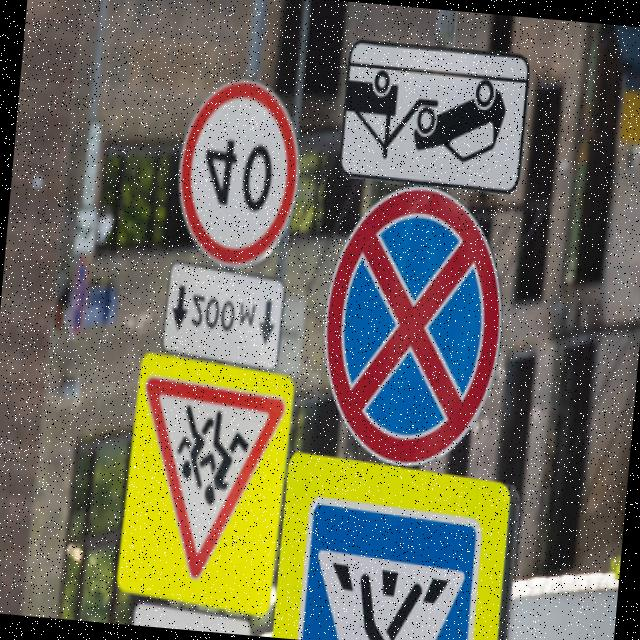no_parking: (313, 163, 518, 478)
